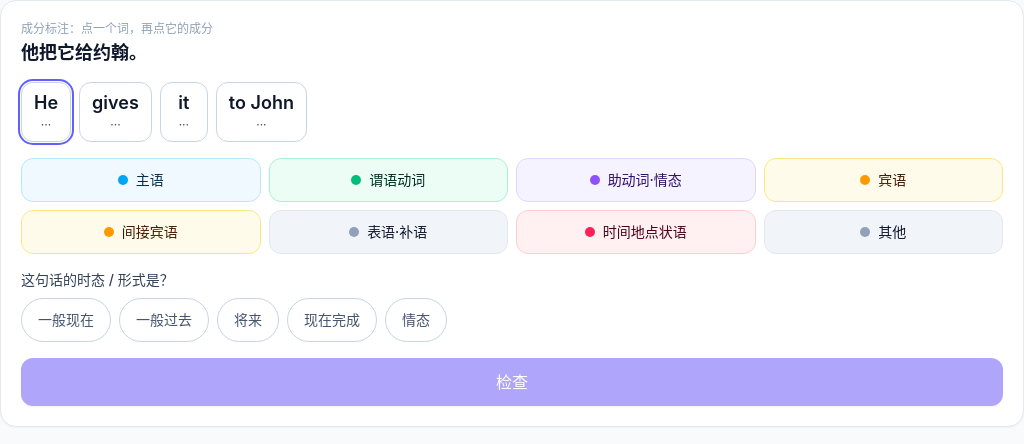
Test: LabelDrill › shows the tokens as buttons, requires every label and the tense before 检查
expect the text with test id "label-zh" reads "他把它给约翰。": met, box [21,42,147,63]
expect the number of buttons named "未标注" is 4: met, box [21,82,71,142]; [79,82,152,142]; [160,82,208,142]; [216,82,307,142]
Click the button "主语".
click(141, 180)  # box [21,158,260,202]
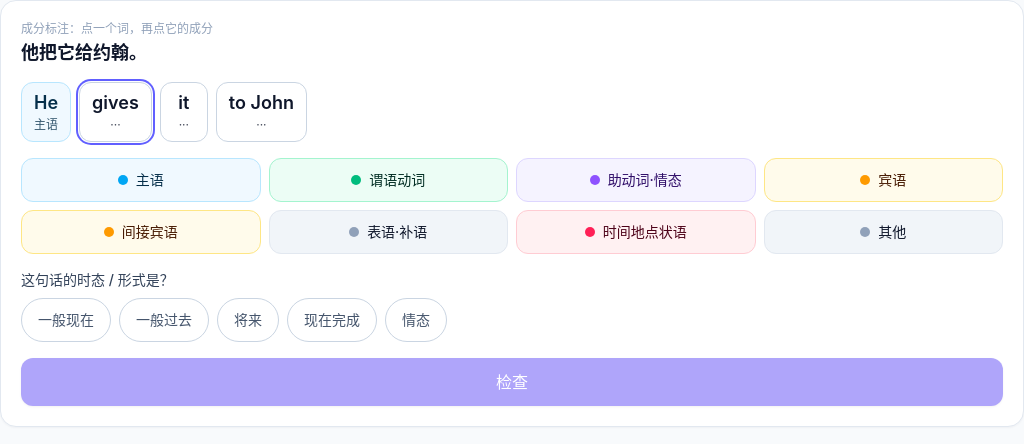
Click the button "谓语动词".
click(388, 180)  # box [268,158,508,202]
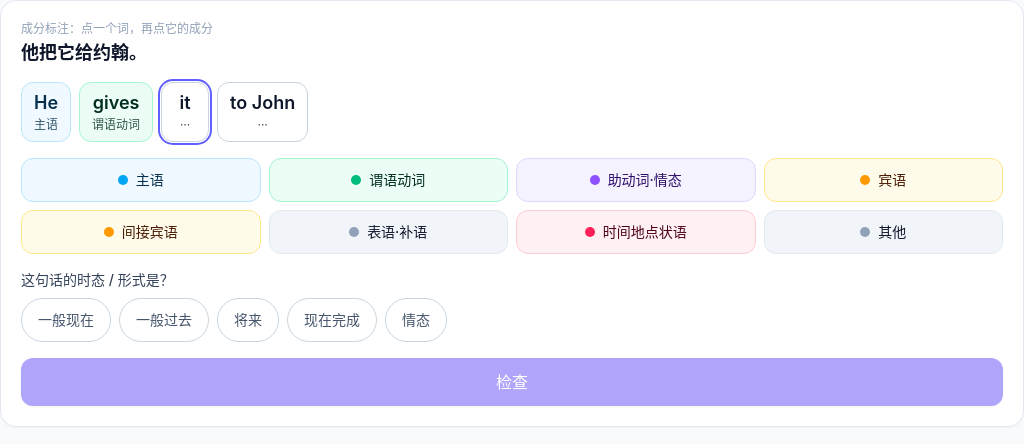
Click the button "宾语".
click(883, 180)  # box [764,158,1003,202]
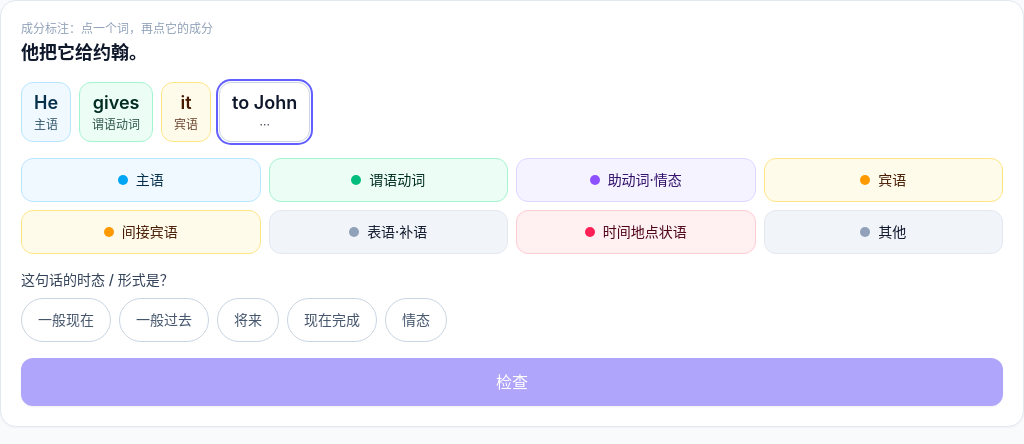
Click the button "间接宾语".
click(141, 232)  # box [21,210,260,254]
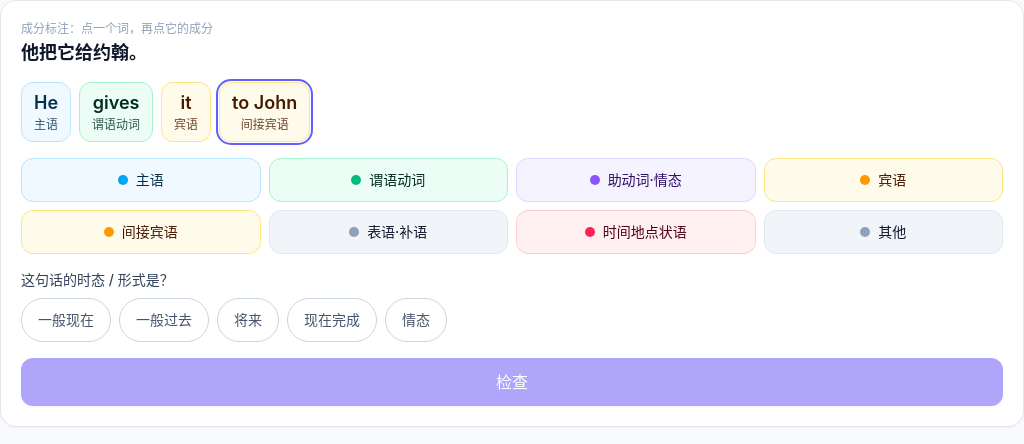
expect the button "检查" is disabled: met, box [21,358,1003,406]
Click the button "一般现在".
click(66, 320)  # box [21,298,111,342]
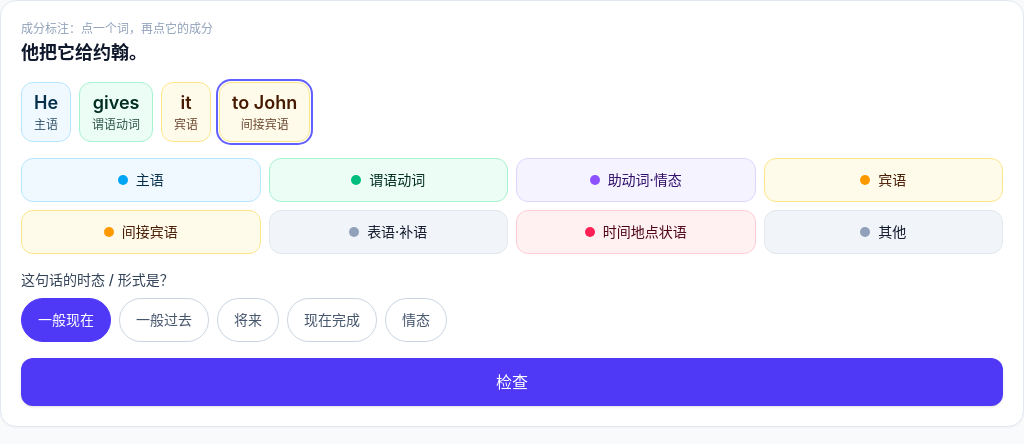
expect the button "检查" is enabled: met, box [21,358,1003,406]
